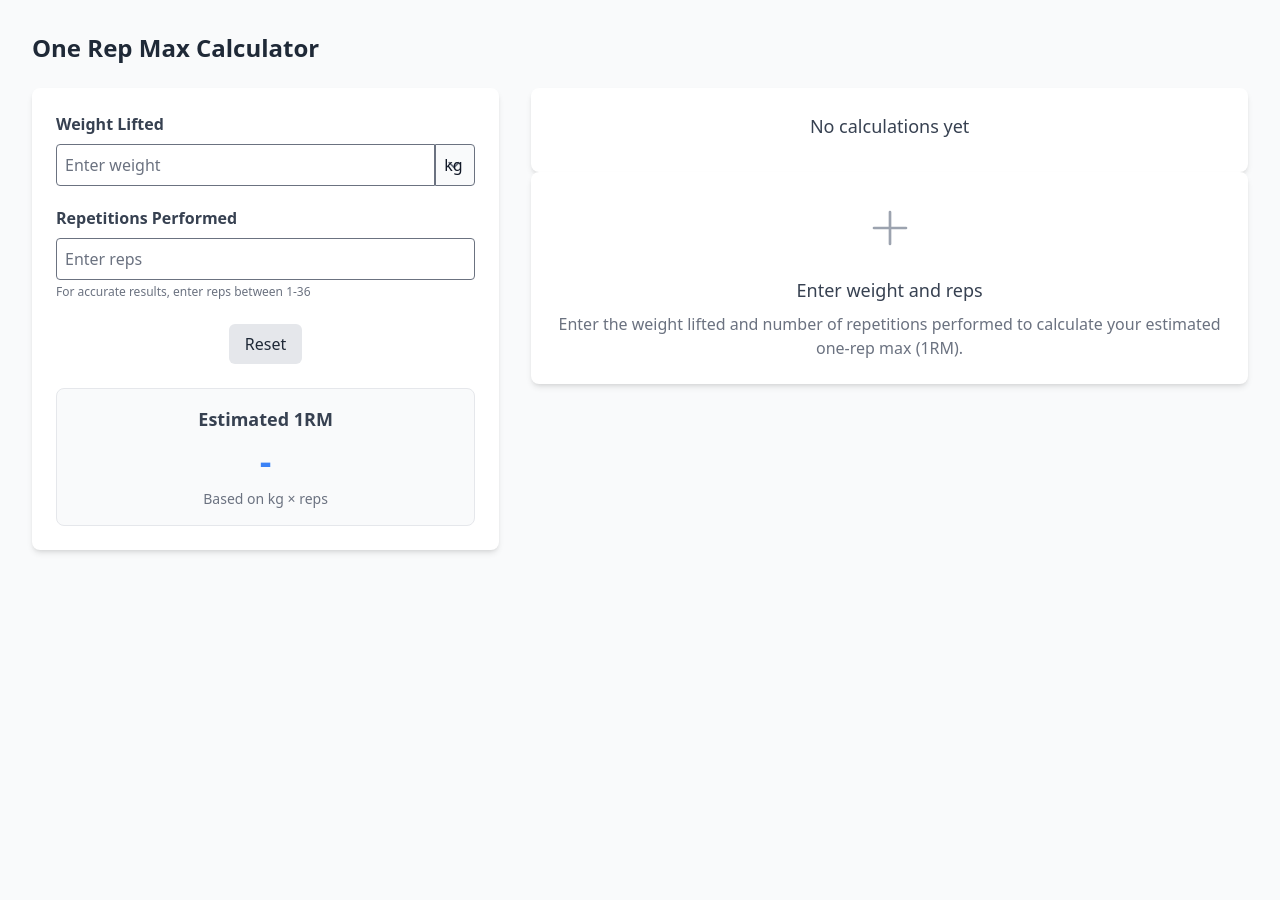
Test case: OneRepMaxCalculator › generates percentage chart with correct values
Type "180" into the number field with placeholder "Enter weight" at (246, 165), box [56,144,435,186]
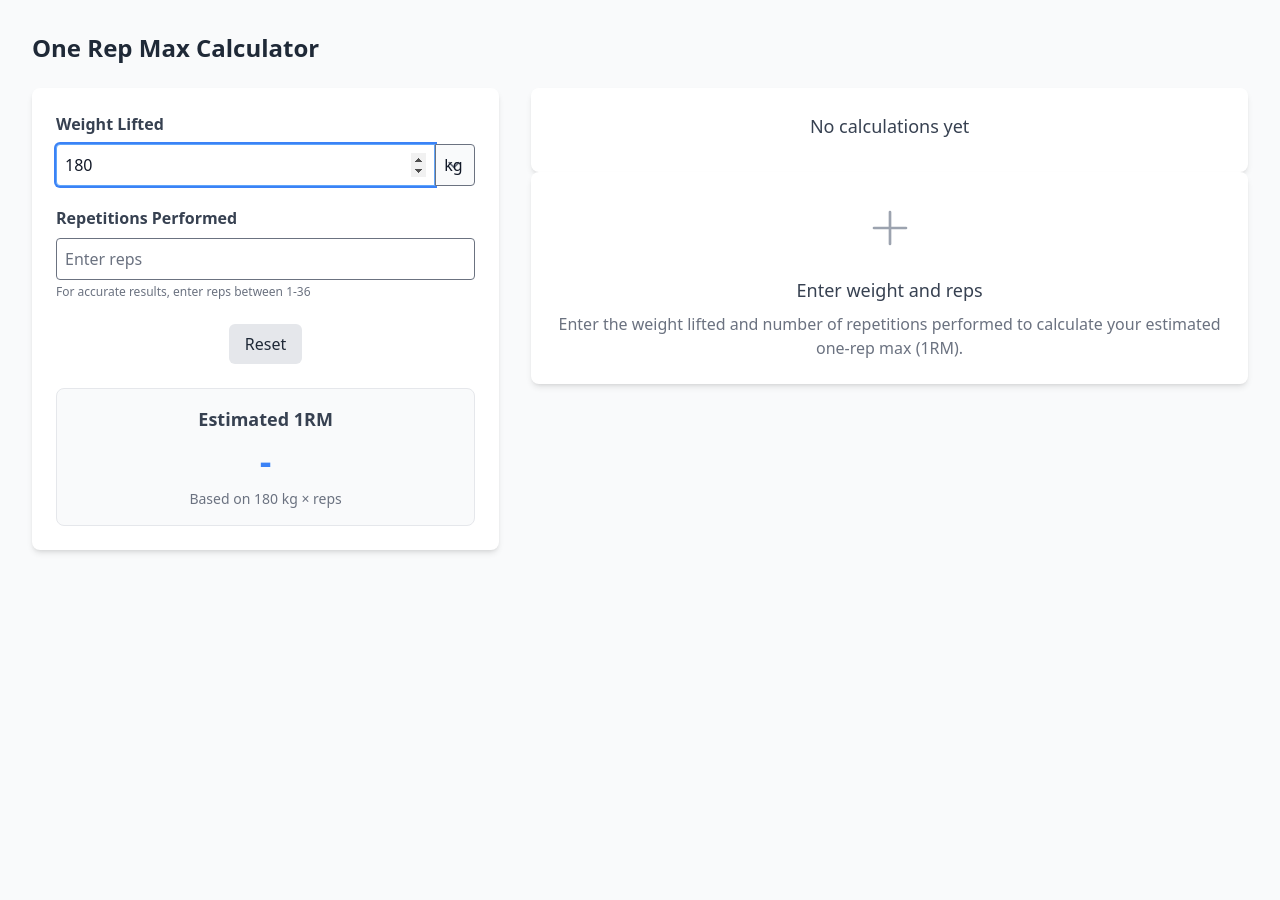
Type "5" into the number field with placeholder "Enter reps" at (266, 259), box [56,238,475,280]
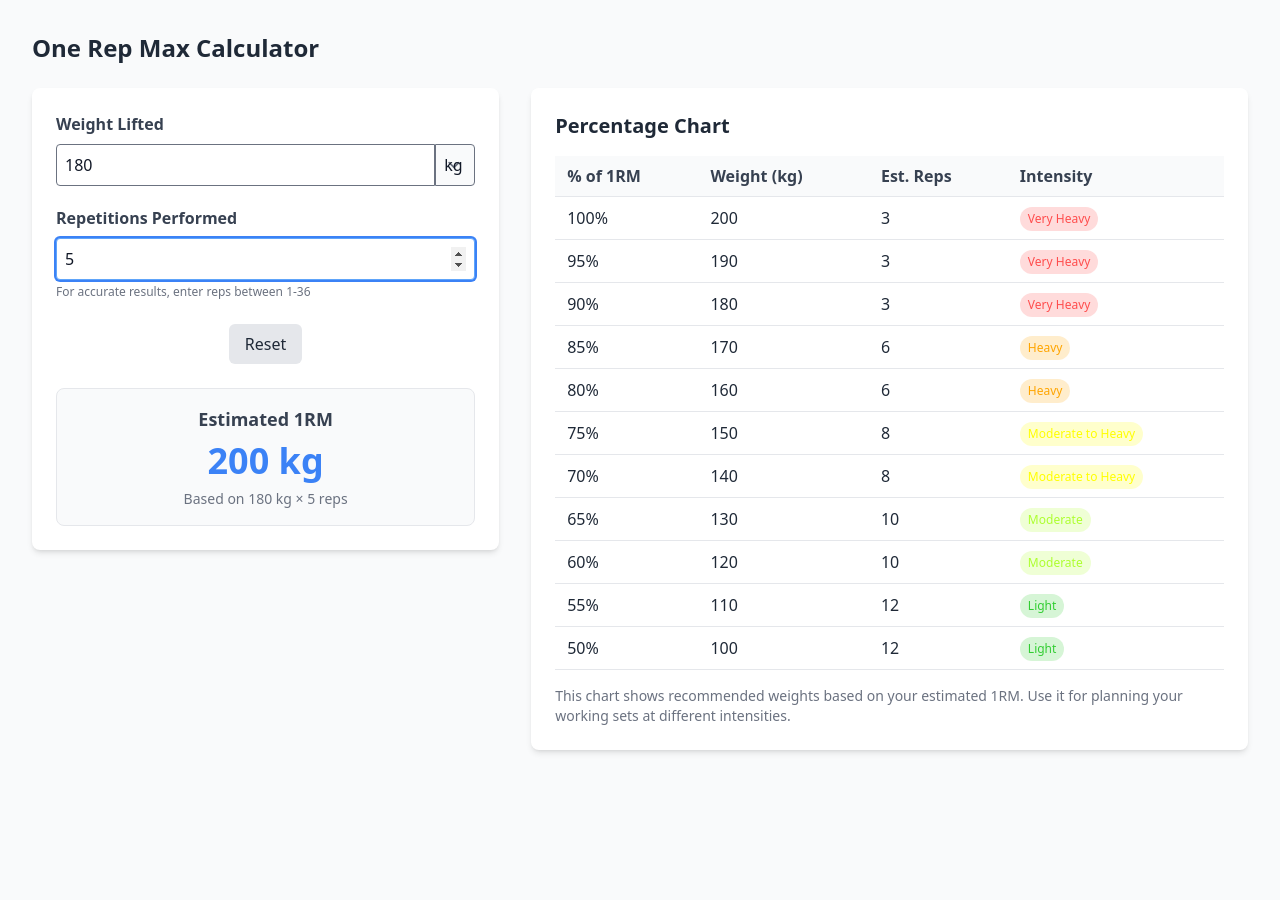
Result: the heading "Percentage Chart" is shown at [555,112,730,139]
Result: the text "100%" is shown at [555,196,698,240]
Result: the text "95%" is shown at [555,240,698,282]
